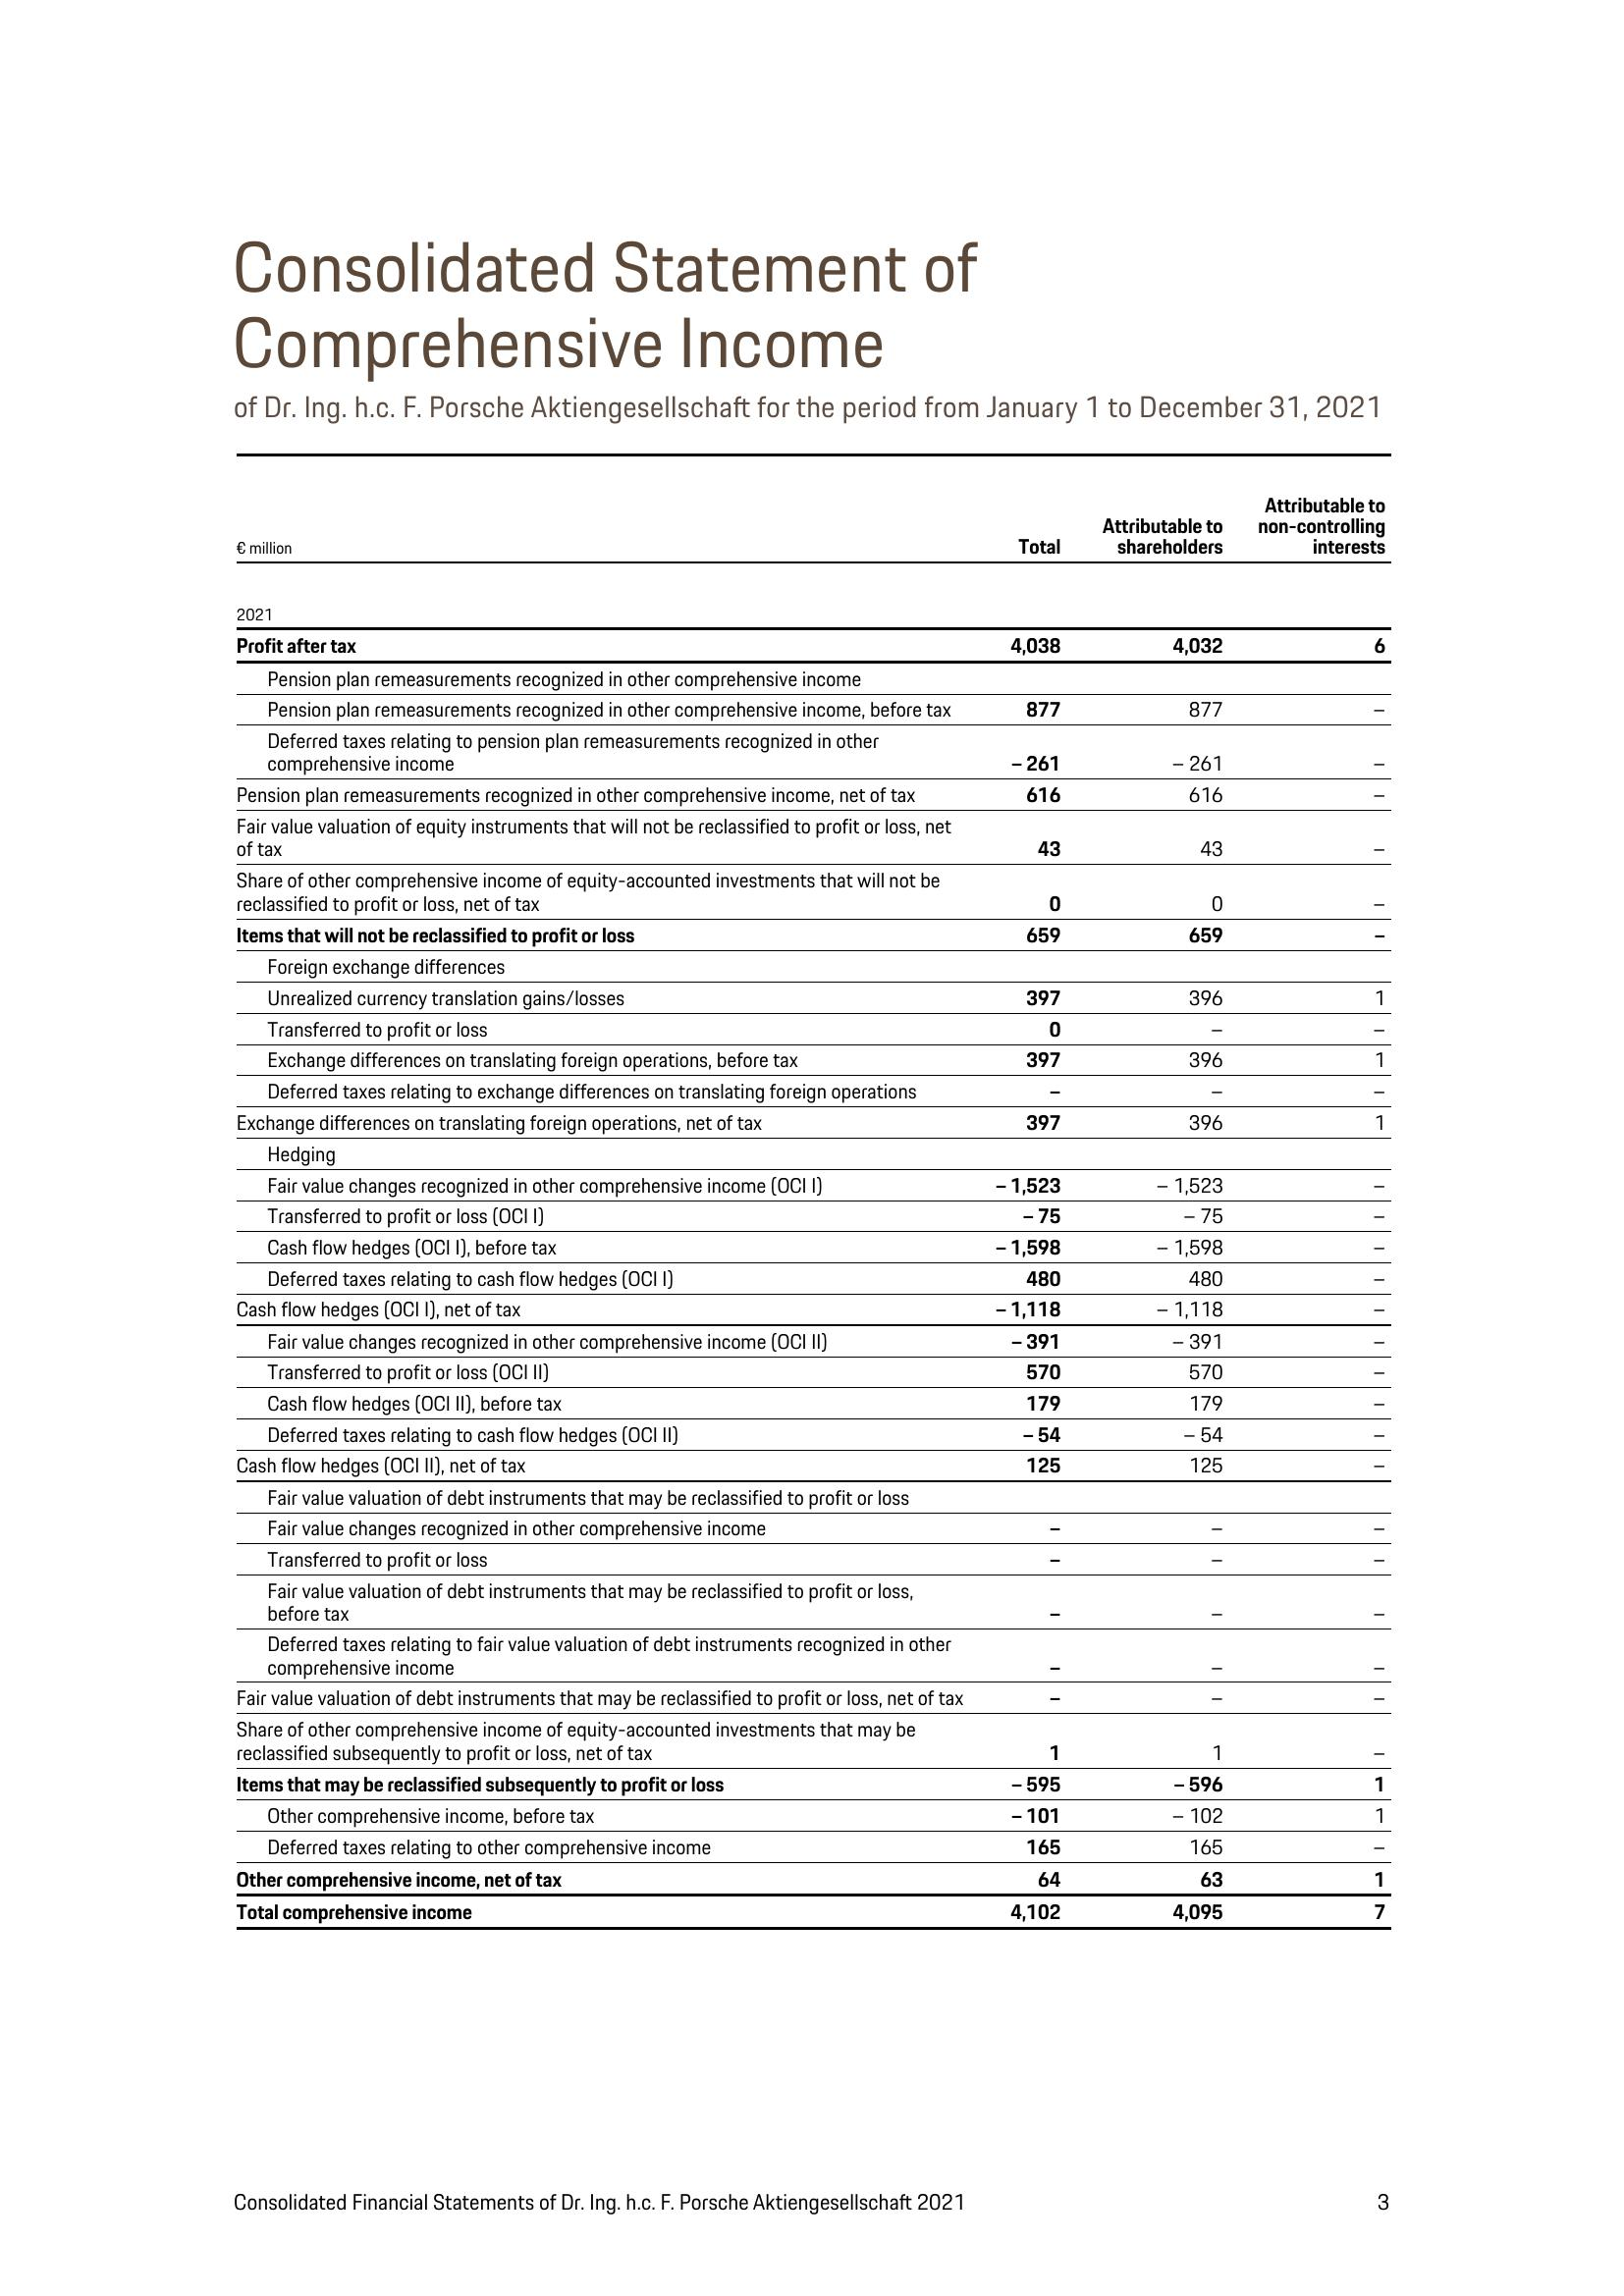Footer: (2, 2143, 1624, 2296)
Header: (0, 0, 1624, 193)
Table: (181, 439, 1452, 1960)
